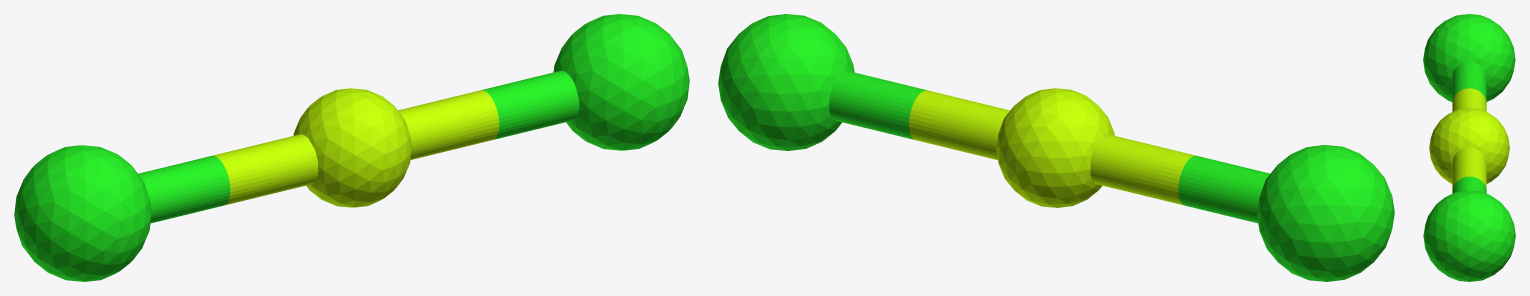
The model's file is BeCl2.gltf.
3 renders of one model, left to right at view 1: azimuth 30°, elevation 25°; view 2: azimuth 150°, elevation 25°; view 3: azimuth 270°, elevation 25°, orthographic. The views are drawn at different scales.
Visible parts, largest first — view 1: Shape_IndexedFaceSet.002, Shape_IndexedFaceSet, Shape_IndexedFaceSet.001, Shape_IndexedFaceSet.007, Shape_IndexedFaceSet.005, Shape_IndexedFaceSet.003, Shape_IndexedFaceSet.008; view 2: Shape_IndexedFaceSet.002, Shape_IndexedFaceSet, Shape_IndexedFaceSet.001, Shape_IndexedFaceSet.007, Shape_IndexedFaceSet.005, Shape_IndexedFaceSet.003, Shape_IndexedFaceSet.008; view 3: Shape_IndexedFaceSet, Shape_IndexedFaceSet.002, Shape_IndexedFaceSet.001, Shape_IndexedFaceSet.005, Shape_IndexedFaceSet.008, Shape_IndexedFaceSet.007, Shape_IndexedFaceSet.003.
Boxes of the visible parts, bbox=[...] form: Shape_IndexedFaceSet.002: bbox=[14, 145, 151, 281]; Shape_IndexedFaceSet: bbox=[553, 14, 689, 150]; Shape_IndexedFaceSet.001: bbox=[293, 88, 411, 207]; Shape_IndexedFaceSet.007: bbox=[213, 134, 318, 205]; Shape_IndexedFaceSet.005: bbox=[398, 90, 499, 159]; Shape_IndexedFaceSet.003: bbox=[481, 70, 579, 139]; Shape_IndexedFaceSet.008: bbox=[138, 155, 230, 223]; Shape_IndexedFaceSet.002: bbox=[1257, 145, 1394, 281]; Shape_IndexedFaceSet: bbox=[718, 14, 854, 150]; Shape_IndexedFaceSet.001: bbox=[996, 88, 1114, 207]; Shape_IndexedFaceSet.007: bbox=[1090, 134, 1195, 205]; Shape_IndexedFaceSet.005: bbox=[909, 90, 1009, 159]; Shape_IndexedFaceSet.003: bbox=[829, 70, 926, 139]; Shape_IndexedFaceSet.008: bbox=[1178, 155, 1269, 223]; Shape_IndexedFaceSet: bbox=[1423, 190, 1515, 281]; Shape_IndexedFaceSet.002: bbox=[1423, 14, 1515, 101]; Shape_IndexedFaceSet.001: bbox=[1429, 108, 1509, 183]; Shape_IndexedFaceSet.005: bbox=[1452, 147, 1486, 190]; Shape_IndexedFaceSet.008: bbox=[1452, 62, 1486, 101]; Shape_IndexedFaceSet.007: bbox=[1452, 88, 1486, 111]; Shape_IndexedFaceSet.003: bbox=[1452, 176, 1486, 193].
Size of the model in its own units: 0.879 by 0.16 by 0.1602.
